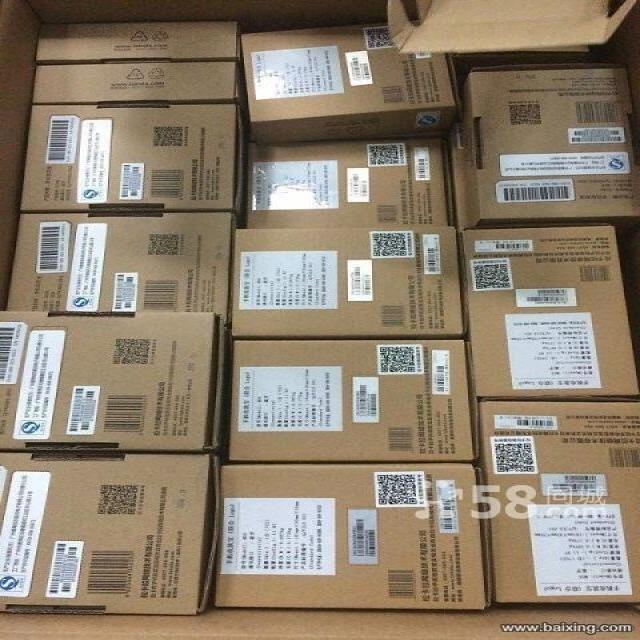box: (218, 463, 488, 608), (0, 451, 222, 614), (0, 310, 231, 452), (477, 400, 639, 602), (460, 225, 639, 400), (446, 66, 639, 227), (226, 339, 479, 461), (239, 22, 457, 147), (230, 228, 467, 338), (19, 104, 245, 213), (5, 214, 235, 315), (246, 137, 452, 228), (33, 22, 238, 104)
